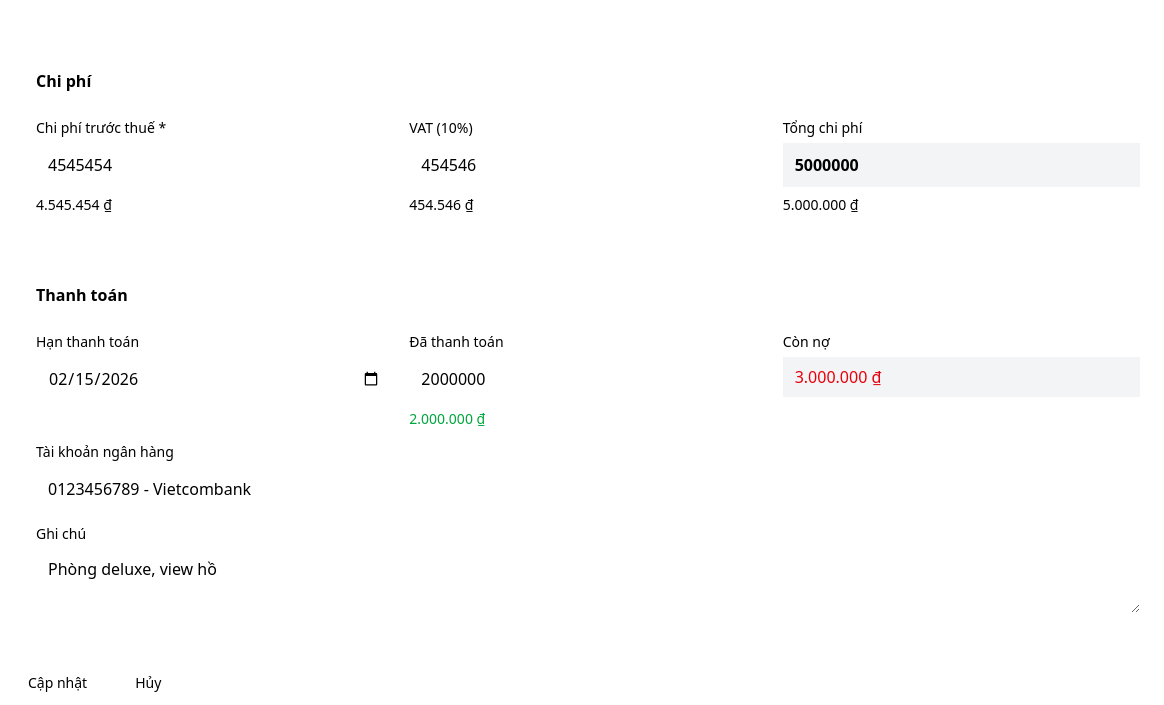
OperatorForm › Submission › shows loading state during submission
(page scrolled)
Click the button "Cập nhật" at (58, 683), box [12,661,103,704]
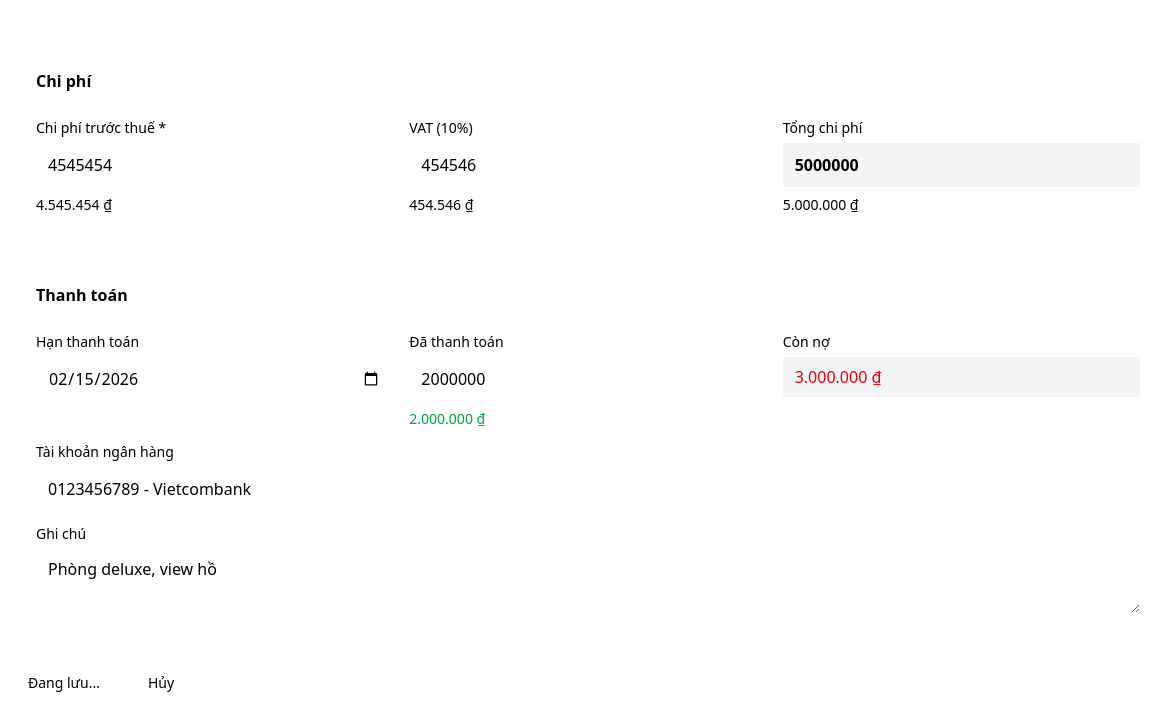
Now the button "Đang lưu..." is shown, box [12,661,116,704]
